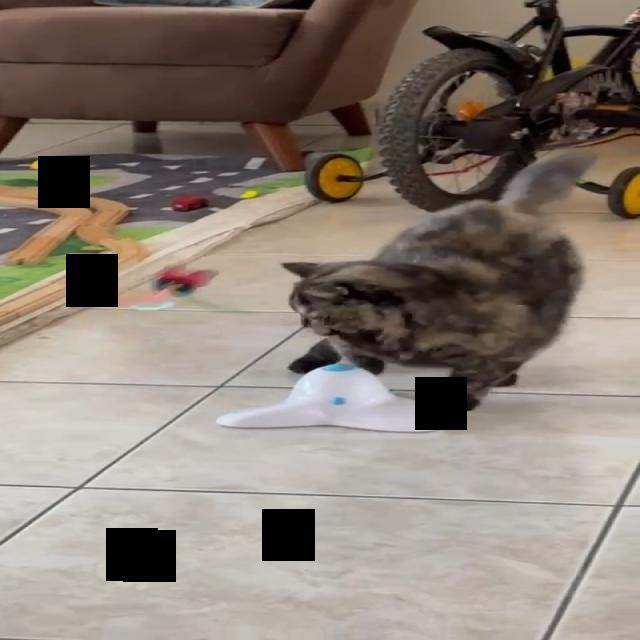authorized: (280, 152, 596, 412)
